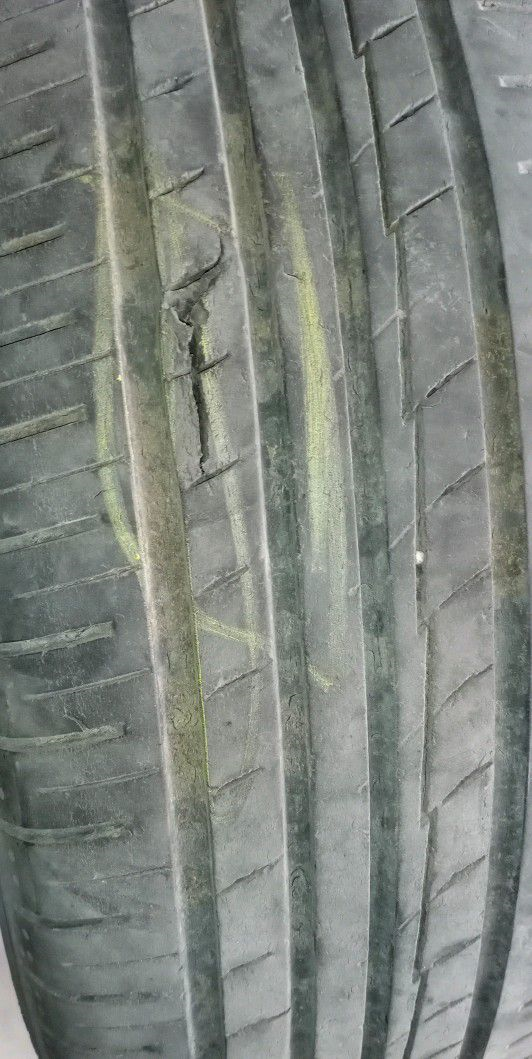tr: (156, 218, 240, 494)
